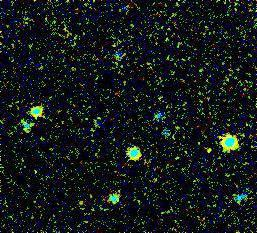star: (193, 134, 223, 164)
